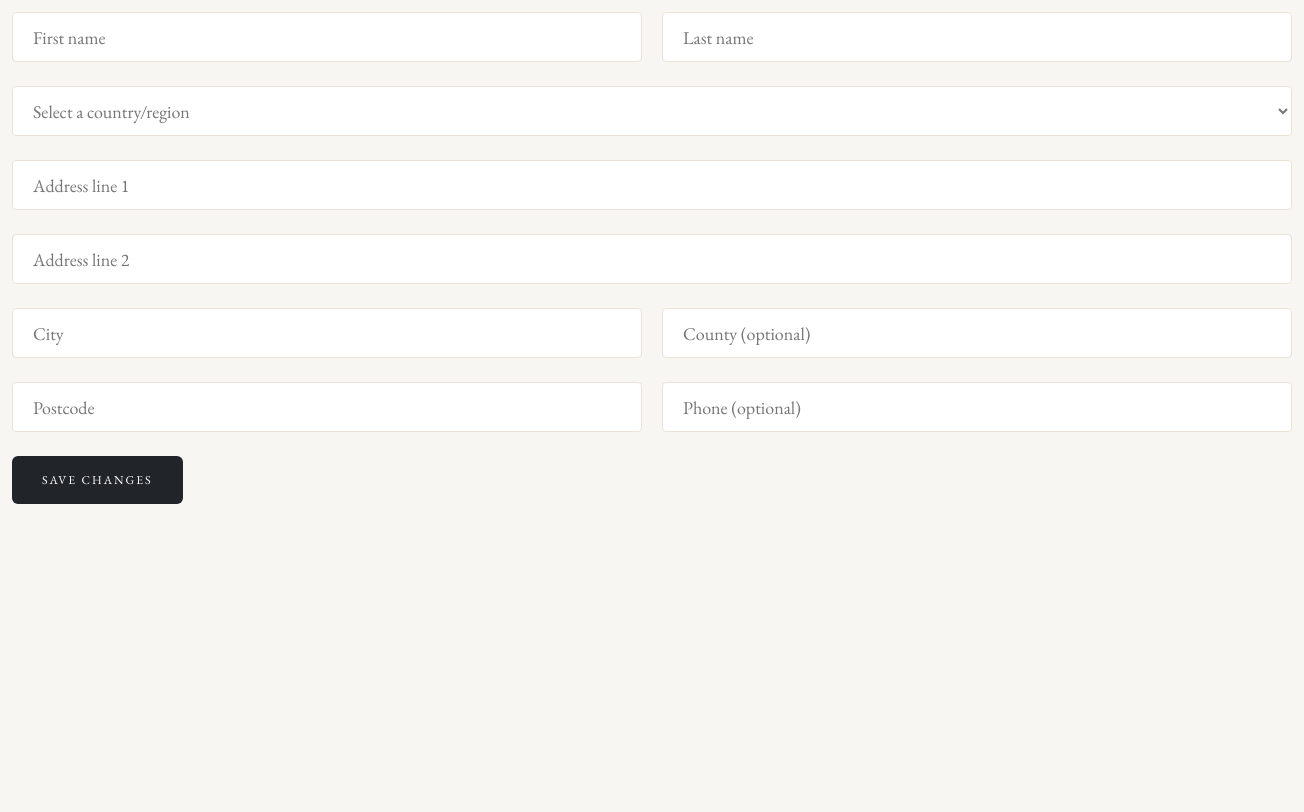
Scenario: EditForm component › shows error messages for missing shipping address fields
The image size is (1304, 812).
Click the button "Save changes" at (97, 480), box left=12, top=456, right=183, bottom=504
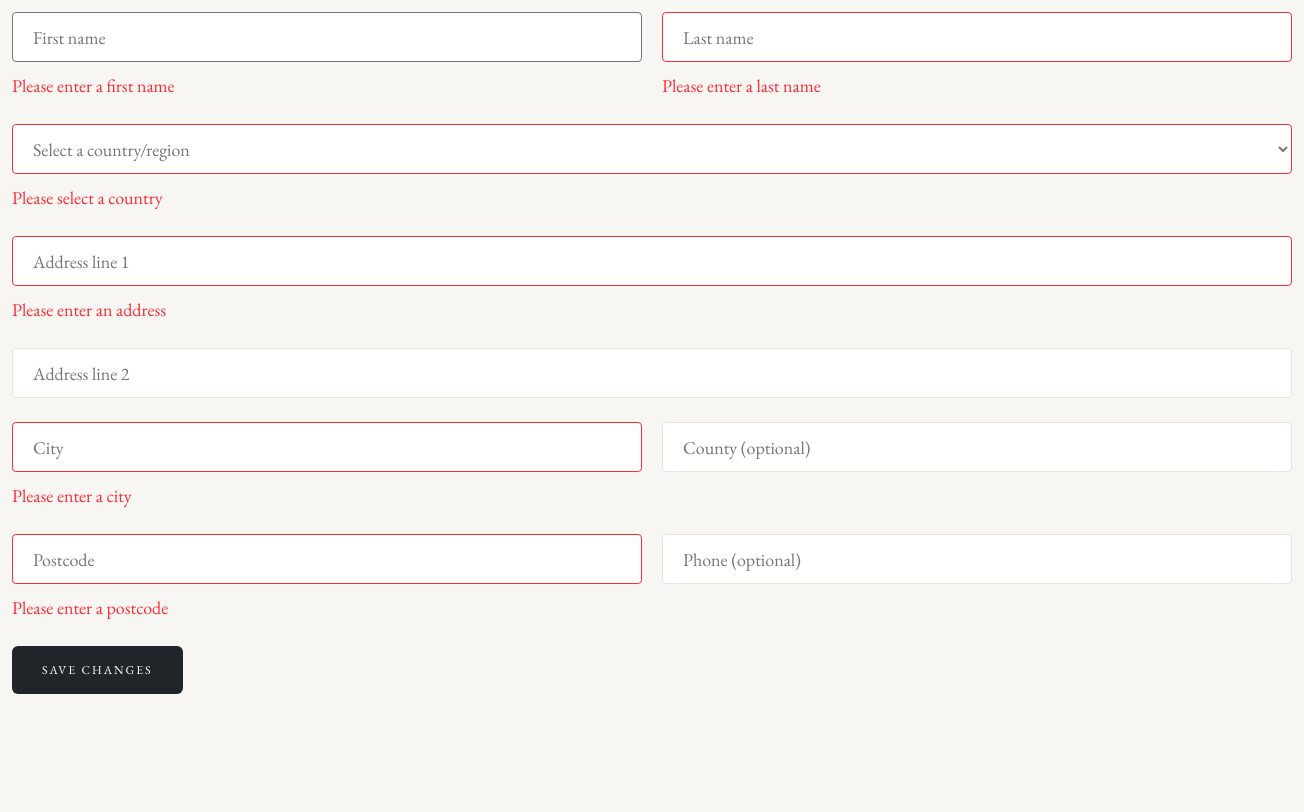
Now the text "Please enter a first name" is shown, box left=12, top=74, right=175, bottom=97
Now the text "Please enter a last name" is shown, box left=662, top=74, right=821, bottom=97
